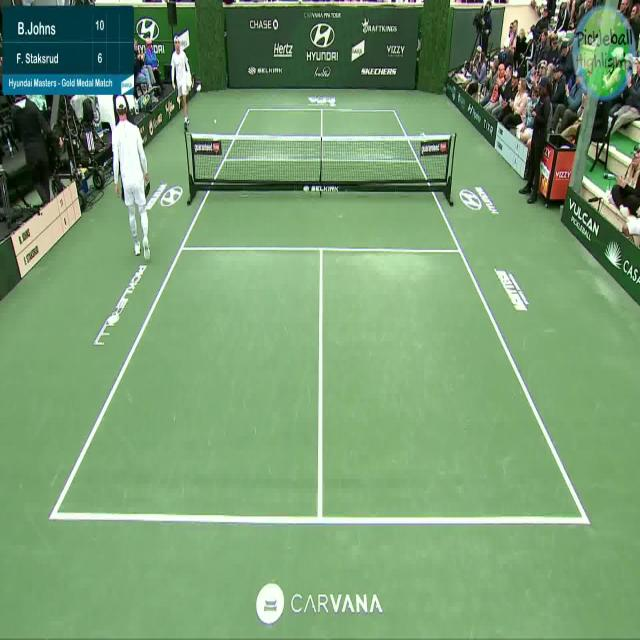Court: (50, 109, 588, 518)
ball: (212, 114, 220, 129)
